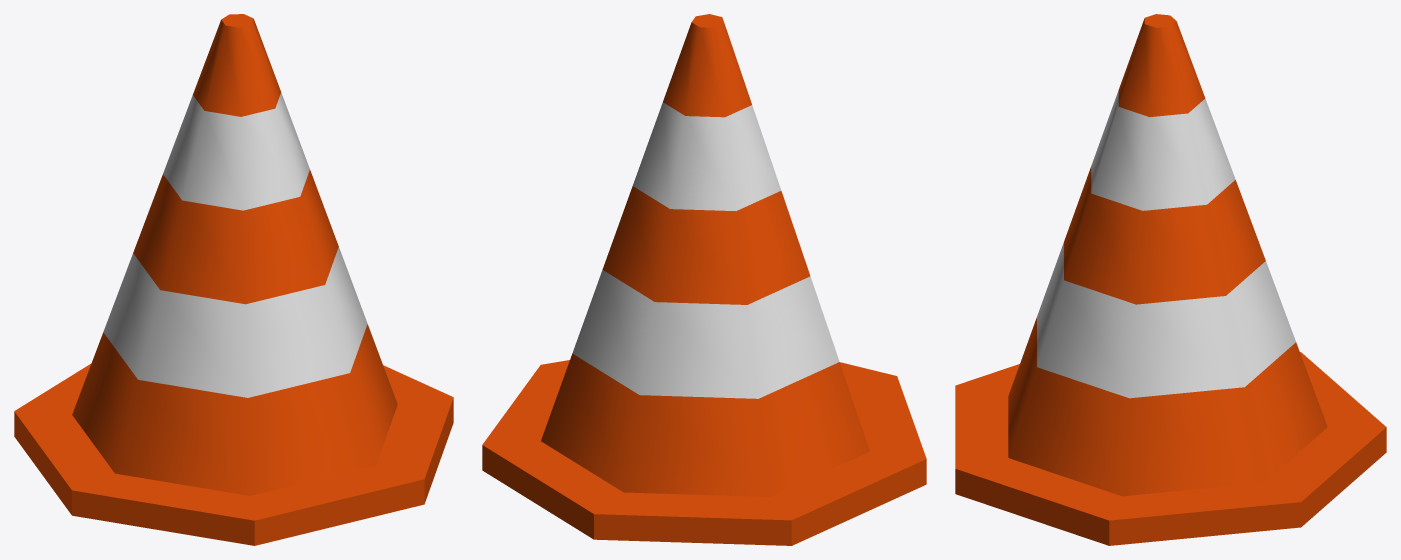
The model's file is Street_cone.fbx.
3 views of the same model, side by side, from view 1: azimuth 30°, elevation 25°; view 2: azimuth 150°, elevation 25°; view 3: azimuth 270°, elevation 25° (orthographic).
Parts seen in each view (by area): view 1: Circle; view 2: Circle; view 3: Circle.
Part boxes in pixels (box(x1,y1,x2,y2)): Circle: box(14, 14, 453, 545); Circle: box(482, 14, 926, 545); Circle: box(955, 14, 1386, 545).
Size of the model in its own units: 78.93 by 85 by 76.95.
